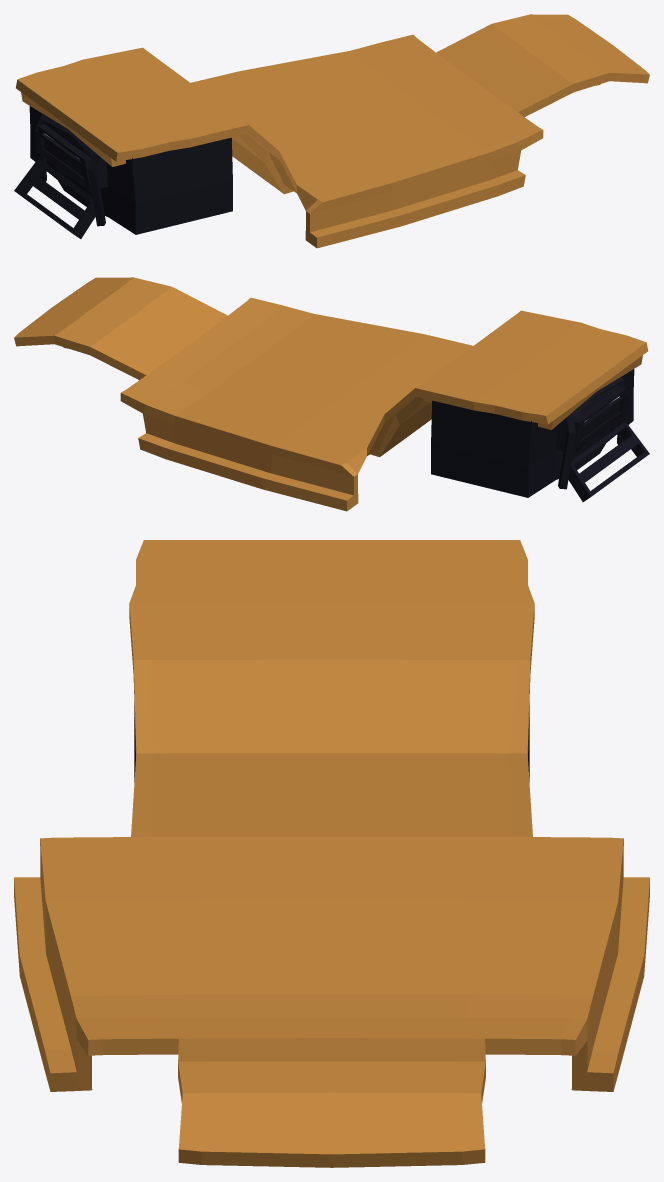
The model's file is Car_Under.fbx.
3 views of the same model, one above another, from view 1: azimuth 30°, elevation 25°; view 2: azimuth 150°, elevation 25°; view 3: azimuth 270°, elevation 25° (orthographic). The views are drawn at different scales.
Visible parts, largest first — view 1: Car_Under_Chassis; view 2: Car_Under_Chassis; view 3: Car_Under_Chassis.
Part boxes in pixels (x1,y1,x2,y2): Car_Under_Chassis: [14, 14, 649, 248]; Car_Under_Chassis: [14, 277, 649, 511]; Car_Under_Chassis: [14, 540, 649, 1167].
Size of the model in its own units: 206 by 399 by 74.06.
